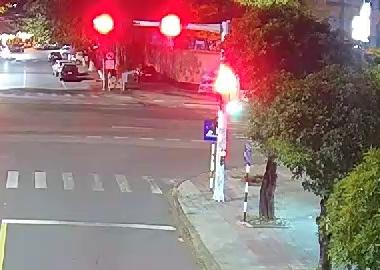red_light: (213, 63, 239, 117), (154, 15, 180, 37), (92, 15, 113, 35)
stop_line: (2, 215, 179, 232)
